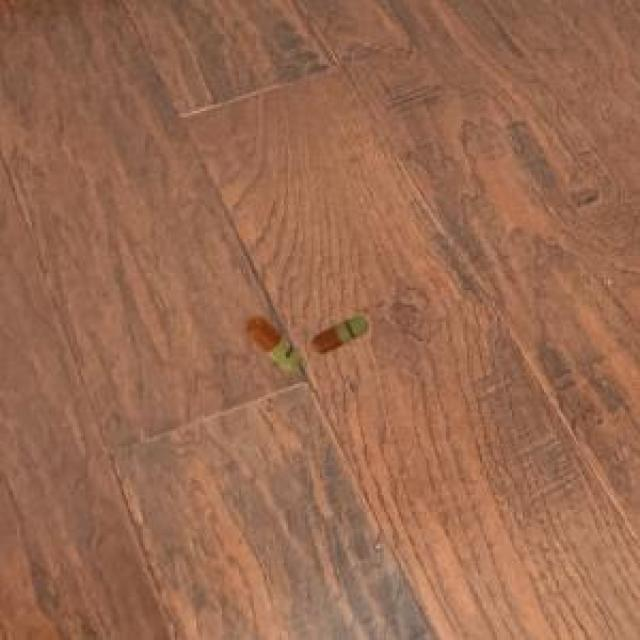Alaxan: (242, 310, 303, 383), (307, 311, 372, 360)
